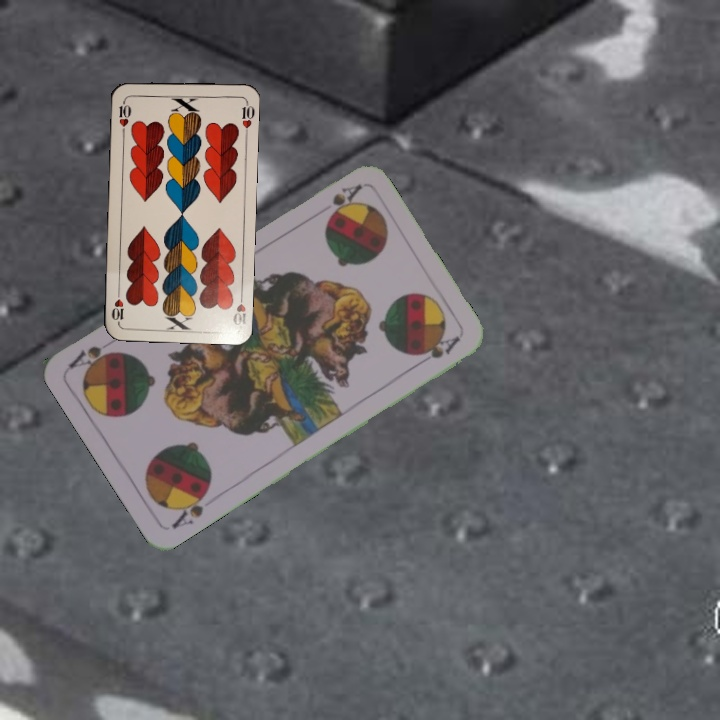H10: (228, 288, 248, 328), (115, 96, 134, 136)
SA: (167, 484, 212, 532), (325, 180, 364, 218)
